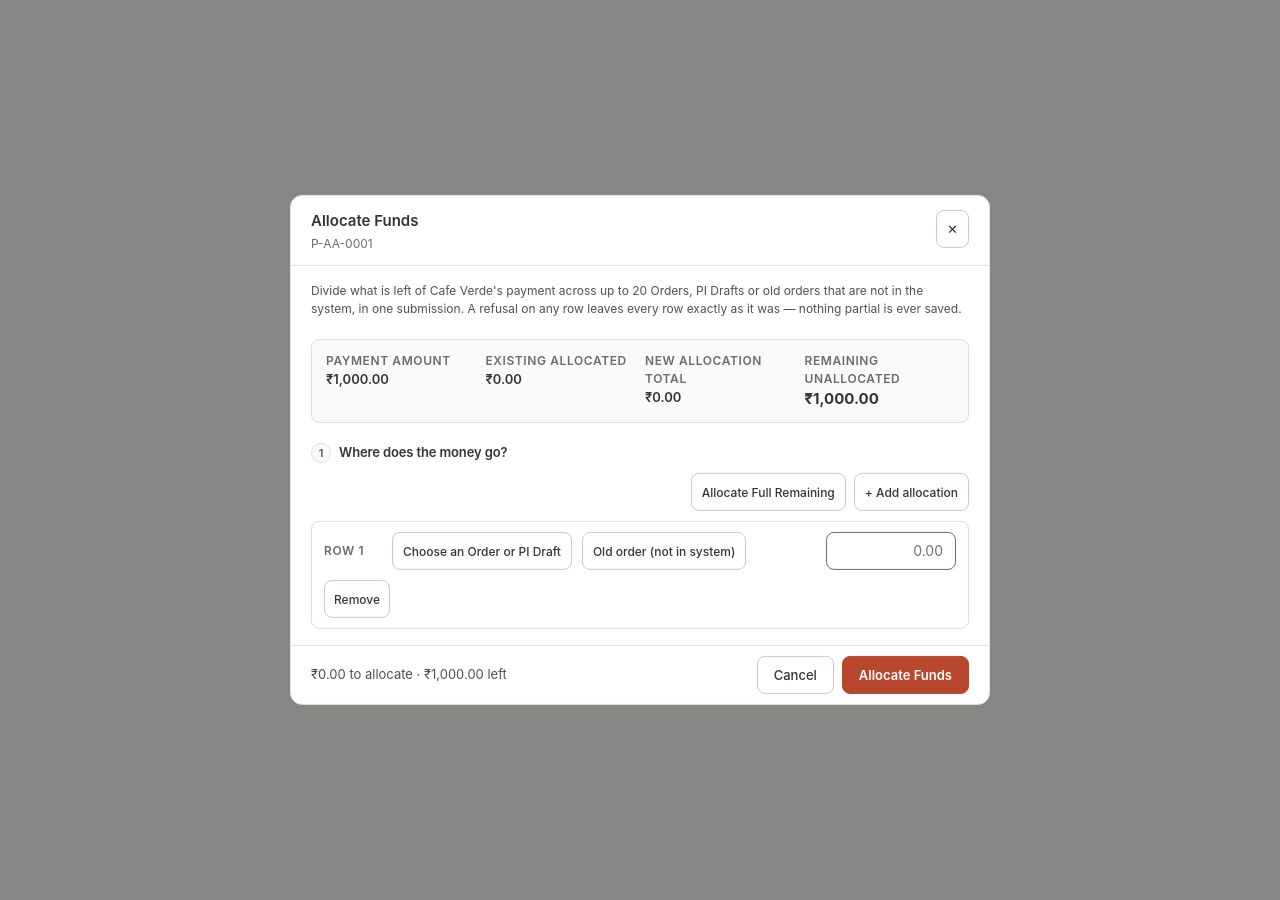
it: Allocate Funds › "Change" takes an old-order row back to an unchosen one
Click the button "Old order (not in system)" at (664, 551), box [582, 532, 746, 570]
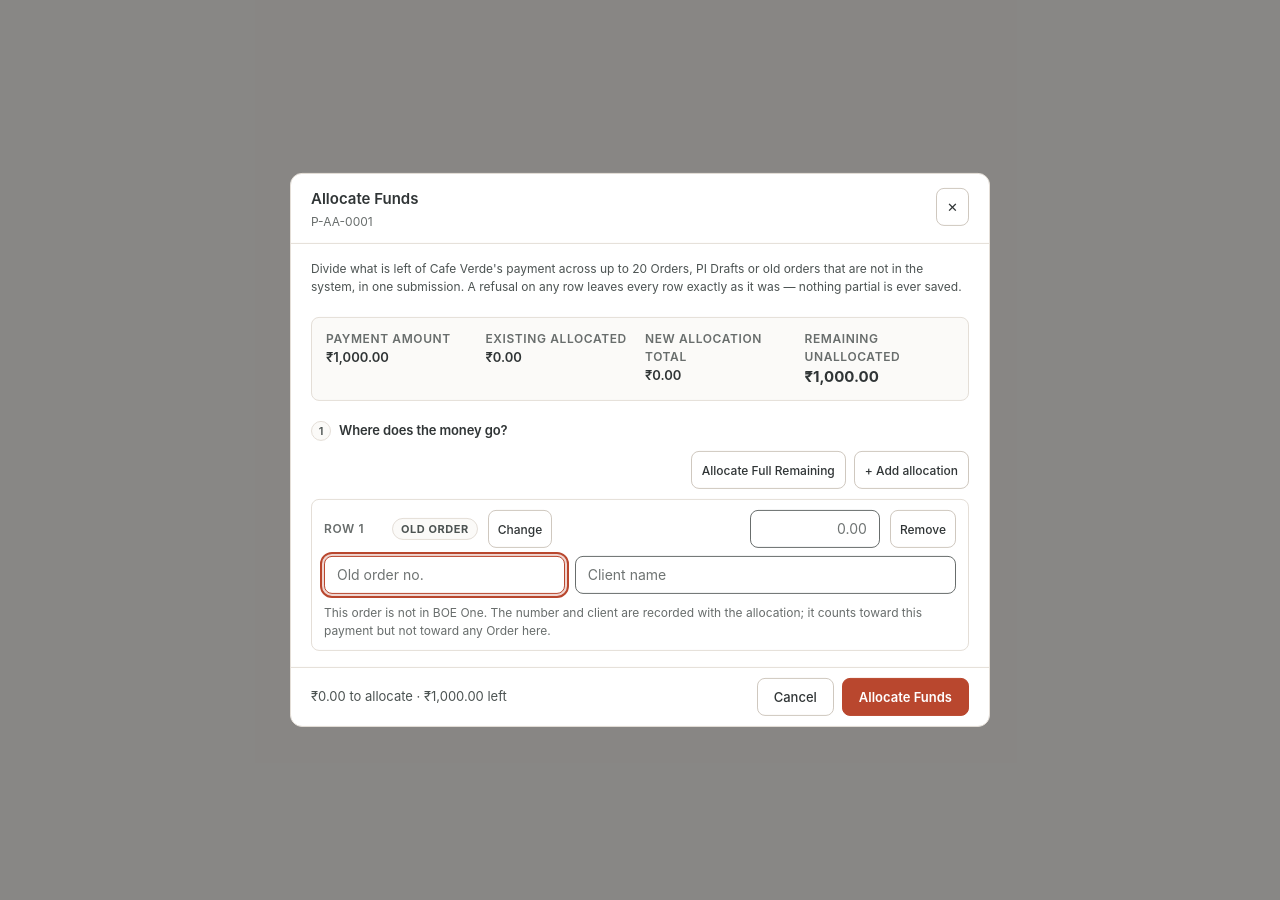
Click the button "Change" at (520, 529), box [488, 510, 552, 548]
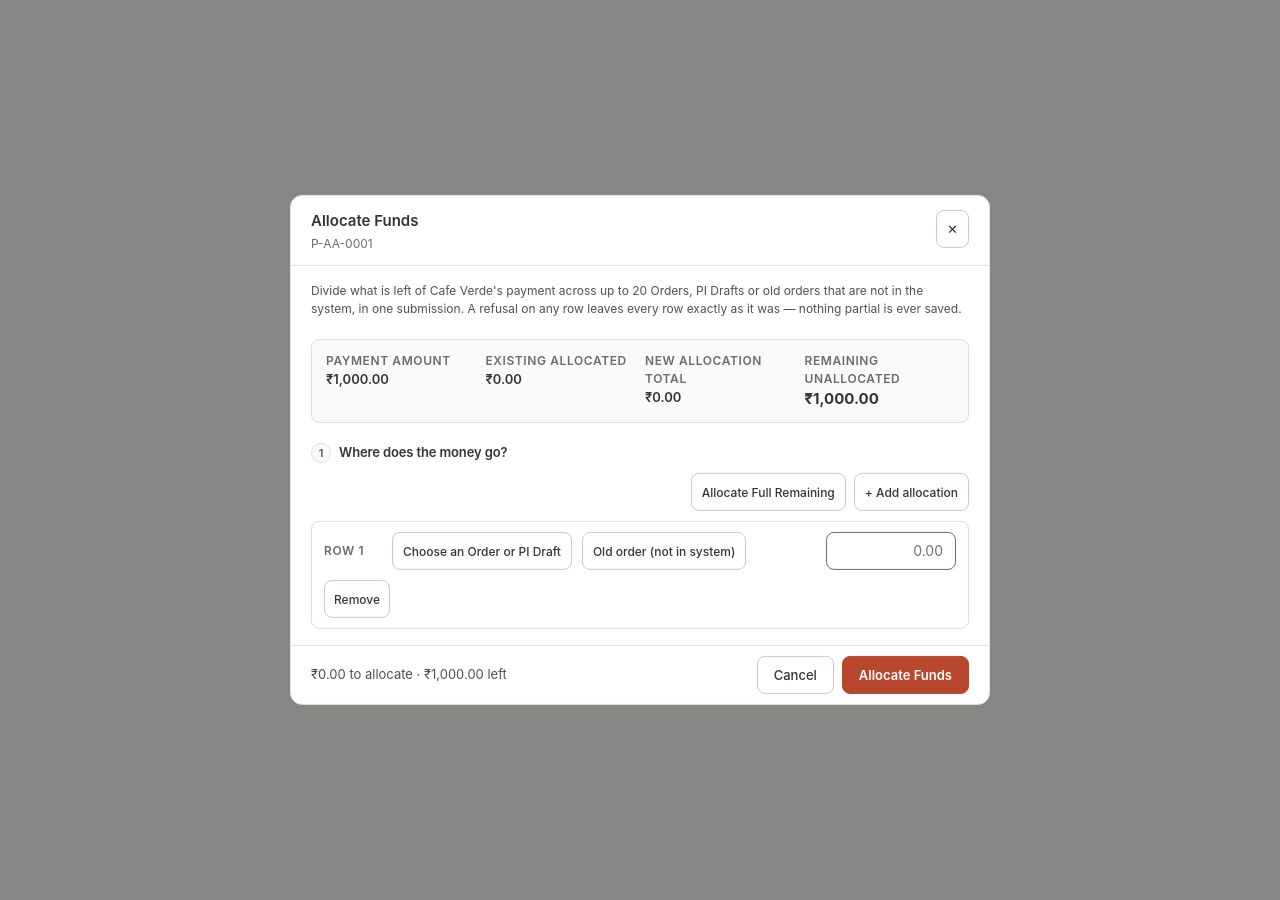
Expected: the button "Choose an Order or PI Draft" is shown, [392, 532, 572, 570]
